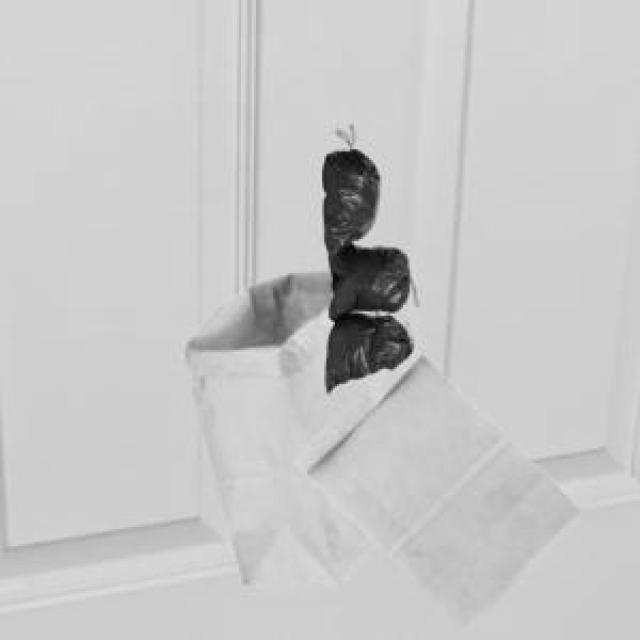miscellaneous trash: (318, 145, 410, 388)
paper: (292, 344, 578, 625), (181, 269, 382, 582)
